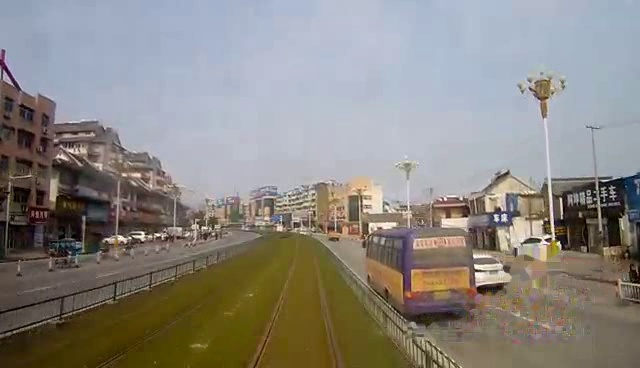bus: (366, 221, 475, 317)
car: (465, 251, 511, 292)
